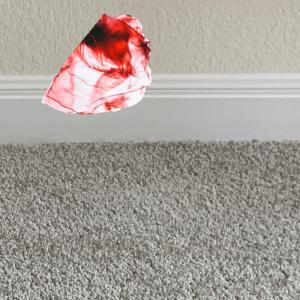plastic_bag: (40, 11, 156, 122)
